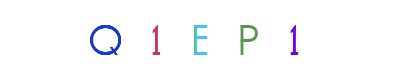1: (119, 0, 199, 80), (199, 0, 279, 80)
E: (139, 0, 219, 80)
P: (168, 0, 248, 80)
Q: (116, 0, 196, 80)
